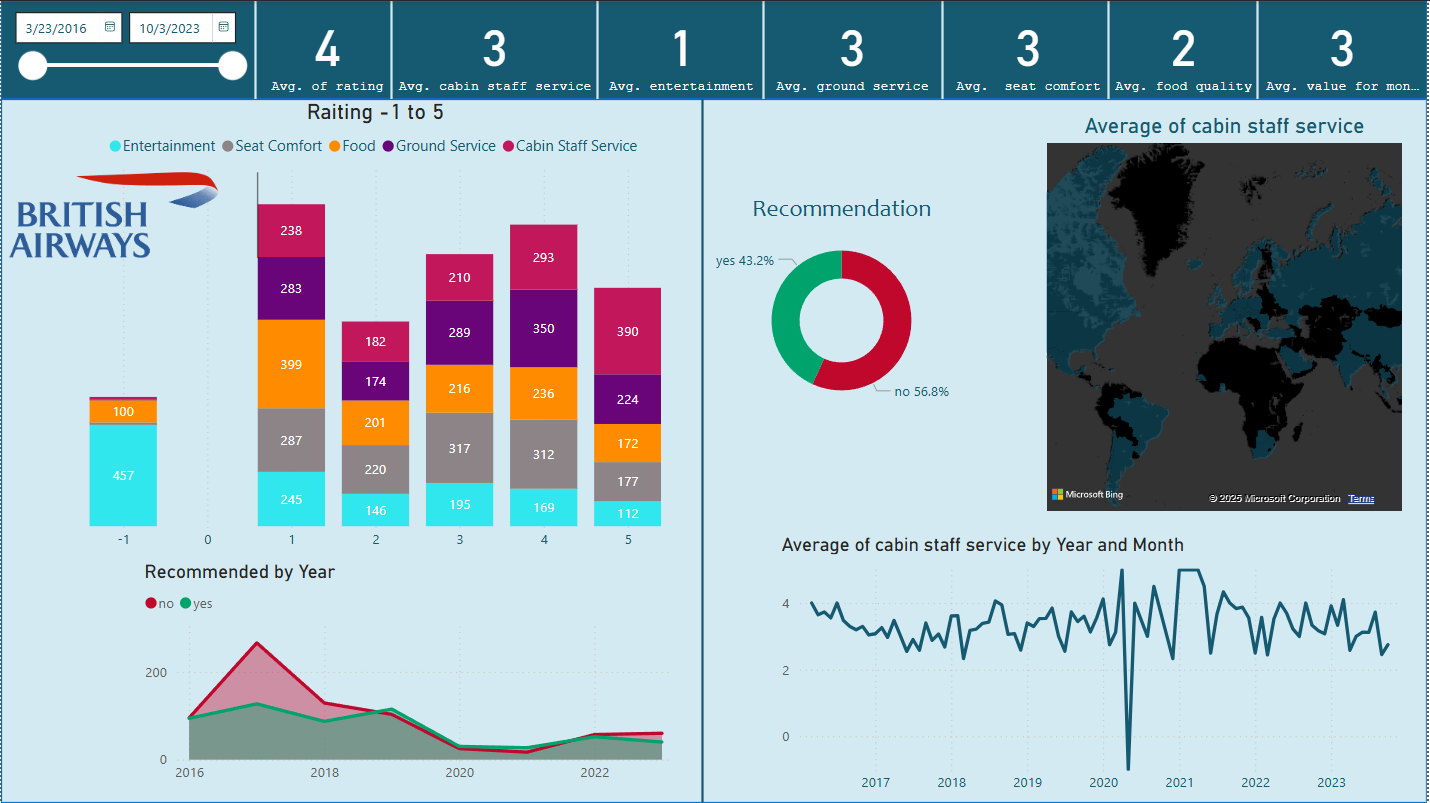

The page's visual inventory and layout, read from the dashboard file:
{"tool":"powerbi","page":{"name":"BritishAirways Reviews Dashboard","canvas":[1280,720],"ordinal":0},"visuals":[{"type":"shape","box":[0,0,1280.2,88],"z":0},{"type":"shape","box":[0,88,1280.2,632],"z":1000},{"type":"card","fields":{"Values":["Avg(ba_reviews (2).food_beverages)"]},"box":[994.7,0,133.8,88],"z":2000},{"type":"card","fields":{"Values":["Avg(ba_reviews (2).value_for_money)"]},"box":[1128.5,0,151.7,88],"z":3000},{"type":"card","fields":{"Values":["Avg(ba_reviews (2).cabin_staff_service)"]},"box":[351,0,184.9,88],"z":4000},{"type":"card","fields":{"Values":["Avg(ba_reviews (2).rating)"]},"box":[218.2,0,149.9,88],"z":5000},{"type":"card","fields":{"Values":["Avg(ba_reviews (2).entertainment)"]},"box":[536,0,149.9,88],"z":6000},{"type":"card","fields":{"Values":["Avg(ba_reviews (2).seat_comfort)"]},"box":[843,0,158.9,88],"z":7000},{"type":"card","fields":{"Values":["Avg(ba_reviews (2).ground_service)"]},"box":[685.9,0,157.1,88],"z":8000},{"type":"shape","box":[549.4,88,160.7,632],"z":9000},{"type":"columnChart","title":"Raiting -1 to 5","fields":{"Category":["MMratinG.Rating"],"Y":["MMratinG.Entertainment_Count","MMratinG.Seat_Comfort_Count","MMratinG.food_Count","MMratinG.ground_Count","MMratinG.Cabin_Staff_Count"]},"box":[74.5,88,523.4,413.9],"z":11000},{"type":"areaChart","title":"Recommended by Year","fields":{"Category":["ba_reviews (2).date.Variation.Date Hierarchy.Year"],"Series":["ba_reviews (2).recommended"],"Y":["CountNonNull(ba_reviews (2).recommended)"]},"box":[123.9,501.8,487.5,209.2],"z":12000},{"type":"donutChart","title":"Recommendation","fields":{"Category":["ba_reviews (2).recommended"],"Y":["CountNonNull(ba_reviews (2).header)"]},"box":[604.2,173.3,300.7,201.1],"z":13000},{"type":"filledMap","title":"Average of cabin staff service ","fields":{"Category":["ba_reviews (2).place"]},"box":[933.7,100.5,329.5,361.8],"z":14000},{"type":"slicer","fields":{"Values":["ba_reviews (2).date"]},"box":[0,0,228.9,111.3],"z":15000},{"type":"image","box":[0,111.3,236.1,162.5],"z":16000},{"type":"lineChart","title":"Average of cabin staff service by Year and Month","fields":{"Y":["Avg(ba_reviews (2).cabin_staff_service)"],"Category":["ba_reviews (2).date.Variation.Date Hierarchy.Year","ba_reviews (2).date.Variation.Date Hierarchy.Month"]},"box":[695.8,477.6,567.4,242.4],"z":16001},{"type":"shape","box":[270.2,0,160.7,88],"z":16002},{"type":"shape","box":[455.2,0,160.7,88],"z":16003},{"type":"shape","box":[604.2,0,160.7,88],"z":16004},{"type":"shape","box":[764.9,0,160.7,88],"z":16005},{"type":"shape","box":[913.9,0,160.7,88],"z":16006},{"type":"shape","box":[1047.7,0,160.7,88],"z":16007},{"type":"shape","box":[148.1,0,160.7,88],"z":16008}]}

Visuals, with their boxes in screenshot pixels (x1, y1, x2, y2), scaled from the page's 1280x720 canvas onto the 1430x803 screenshot:
shape: locate(0, 0, 1429, 98)
shape: locate(0, 98, 1429, 802)
card - Avg(ba_reviews (2).food_beverages): locate(1111, 0, 1261, 98)
card - Avg(ba_reviews (2).value_for_money): locate(1261, 0, 1429, 98)
card - Avg(ba_reviews (2).cabin_staff_service): locate(392, 0, 599, 98)
card - Avg(ba_reviews (2).rating): locate(244, 0, 411, 98)
card - Avg(ba_reviews (2).entertainment): locate(599, 0, 766, 98)
card - Avg(ba_reviews (2).seat_comfort): locate(942, 0, 1119, 98)
card - Avg(ba_reviews (2).ground_service): locate(766, 0, 942, 98)
shape: locate(614, 98, 793, 802)
"Raiting -1 to 5" columnChart: locate(83, 98, 668, 560)
"Recommended by Year" areaChart: locate(138, 560, 683, 793)
"Recommendation" donutChart: locate(675, 193, 1011, 418)
"Average of cabin staff service " filledMap: locate(1043, 112, 1411, 516)
slicer - ba_reviews (2).date: locate(0, 0, 256, 124)
image: locate(0, 124, 264, 305)
"Average of cabin staff service by Year and Month" lineChart: locate(777, 533, 1411, 802)
shape: locate(302, 0, 481, 98)
shape: locate(509, 0, 688, 98)
shape: locate(675, 0, 855, 98)
shape: locate(855, 0, 1034, 98)
shape: locate(1021, 0, 1201, 98)
shape: locate(1170, 0, 1350, 98)
shape: locate(165, 0, 345, 98)
